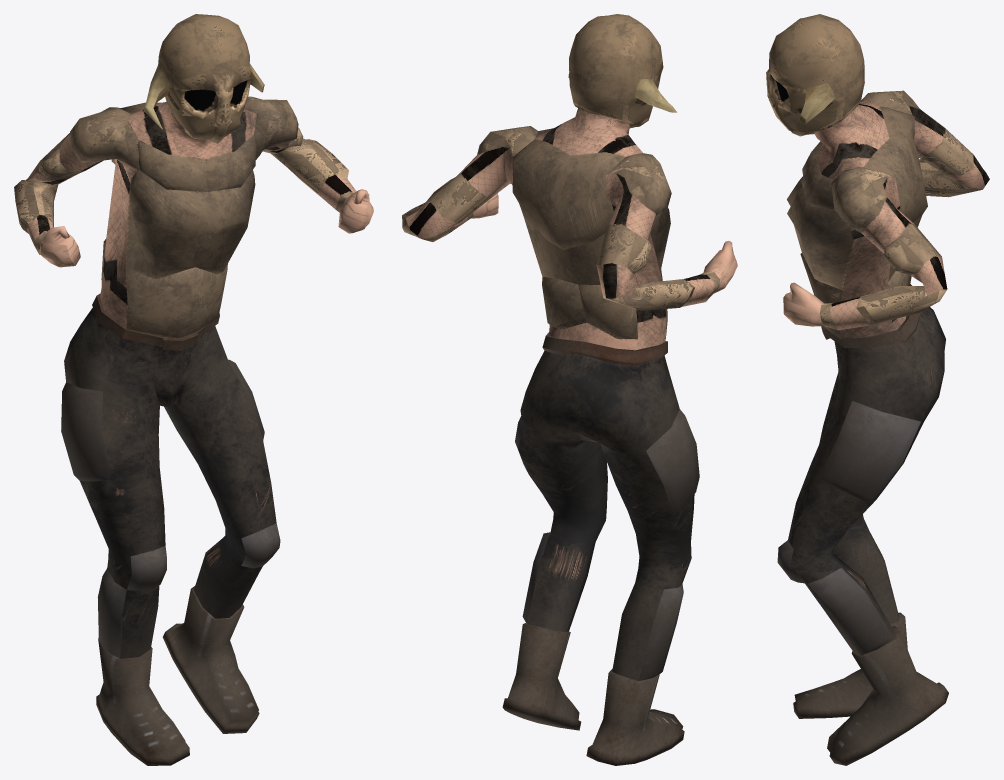
Rendered from Anim_ataque_d3_npc1.0039.obj.
3 renders of one model, left to right at view 1: azimuth 30°, elevation 25°; view 2: azimuth 150°, elevation 25°; view 3: azimuth 270°, elevation 25°, orthographic. The views are drawn at different scales.
Visible parts, largest first — view 1: NPC2; view 2: NPC2; view 3: NPC2.
Part boxes in pixels (x1=…): NPC2: x1=14, y1=14, x2=373, y2=765; NPC2: x1=402, y1=14, x2=737, y2=765; NPC2: x1=766, y1=14, x2=989, y2=765.
Size of the model in its own units: 4.15 by 9.38 by 2.64.
